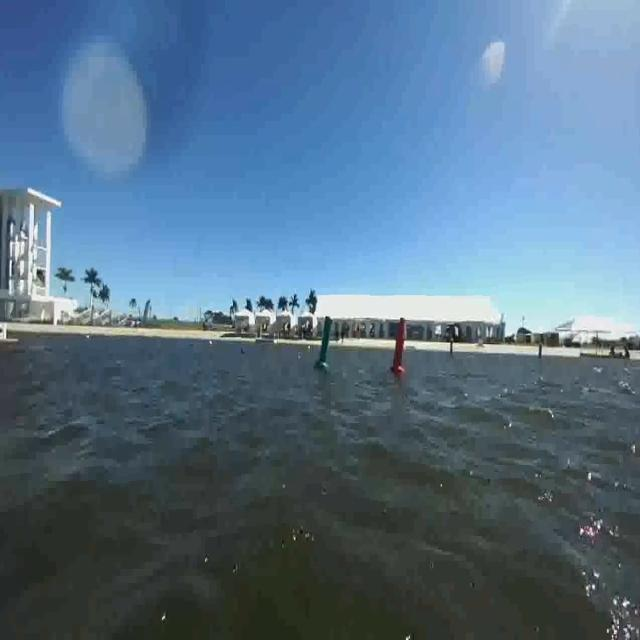green-column-buoy: (314, 316, 335, 371)
red-column-buoy: (389, 319, 407, 375)
